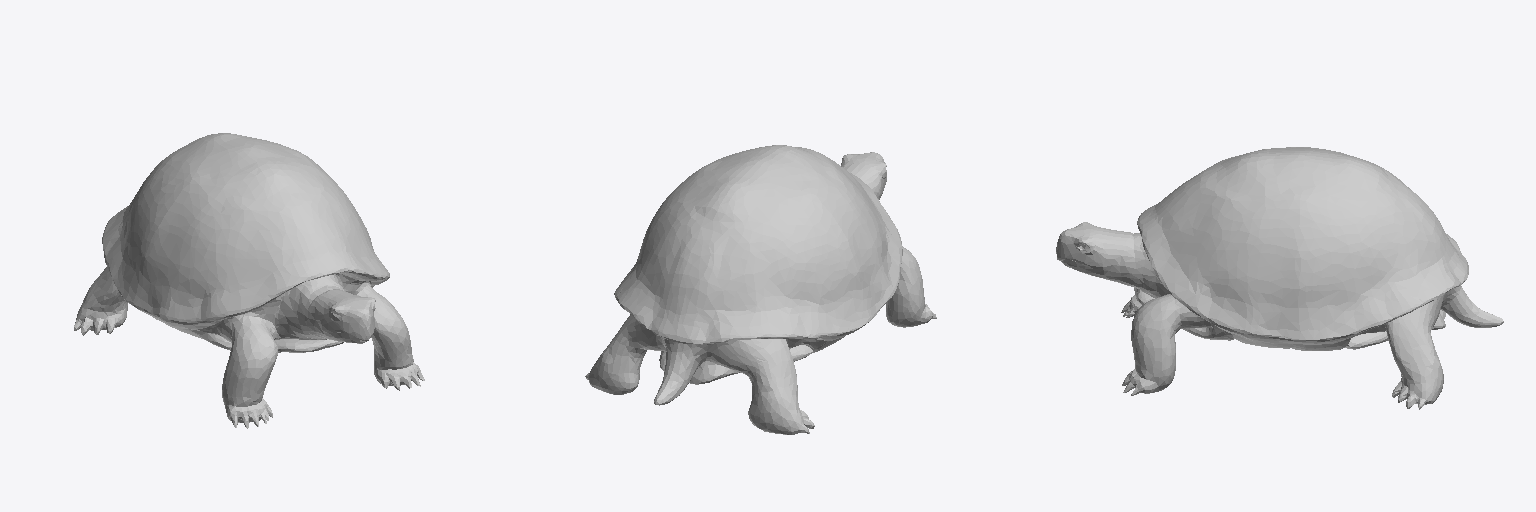
Rendered from Stupendemys__0418224531_texture.obj.
3 renders of one model, left to right at view 1: azimuth 30°, elevation 25°; view 2: azimuth 150°, elevation 25°; view 3: azimuth 270°, elevation 25°, orthographic.
Parts seen in each view (by area): view 1: Stupendemys__[number redacted]_texture; view 2: Stupendemys__[number redacted]_texture; view 3: Stupendemys__[number redacted]_texture.
Boxes of the visible parts, x1,y1,x2,y2 form: Stupendemys__[number redacted]_texture: [74, 133, 424, 428]; Stupendemys__[number redacted]_texture: [585, 145, 936, 434]; Stupendemys__[number redacted]_texture: [1056, 147, 1503, 409].
Bounding box in the file's own units: 1.17 × 0.9998 × 2.